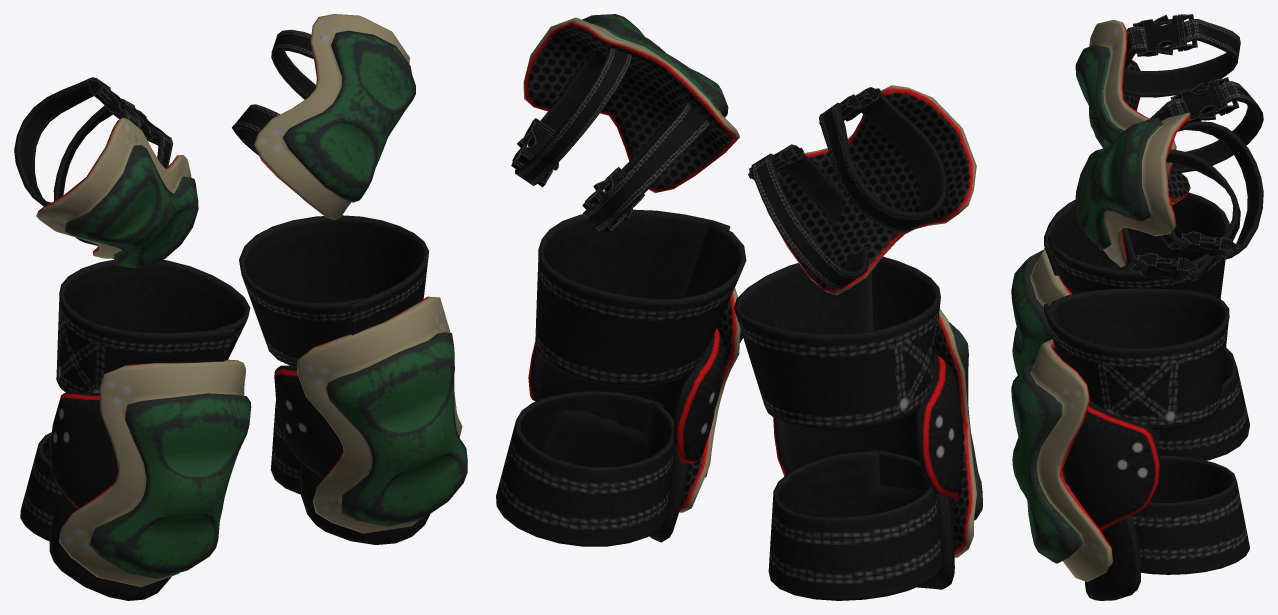
File: dop_armor_onli.fbx
3 renders of one model, left to right at view 1: azimuth 30°, elevation 25°; view 2: azimuth 150°, elevation 25°; view 3: azimuth 270°, elevation 25°, orthographic. The views are drawn at different scales.
Parts seen in each view (by area): view 1: dop_armor_onli; view 2: dop_armor_onli; view 3: dop_armor_onli.
Part boxes in pixels (left/top/right/bottom): dop_armor_onli: left=14, top=14, right=467, bottom=600; dop_armor_onli: left=496, top=14, right=982, bottom=600; dop_armor_onli: left=1011, top=14, right=1263, bottom=600.
Size of the model in its own units: 0.2799 by 0.3245 by 0.1575.
